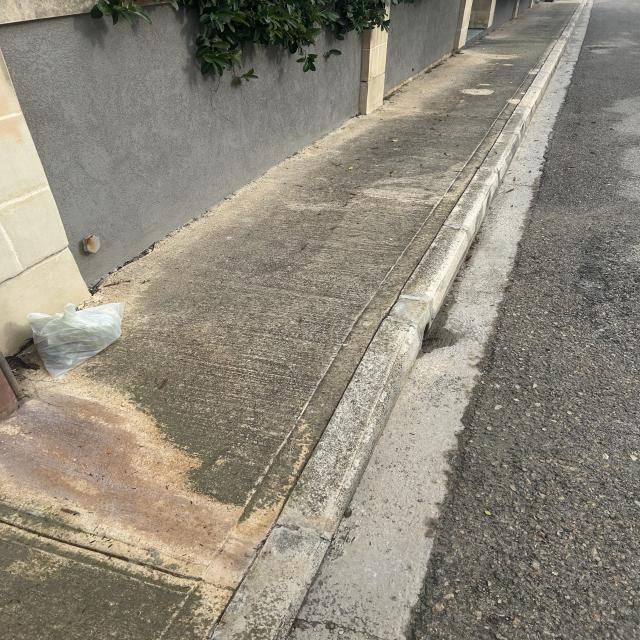white_bag: (14, 296, 157, 382)
